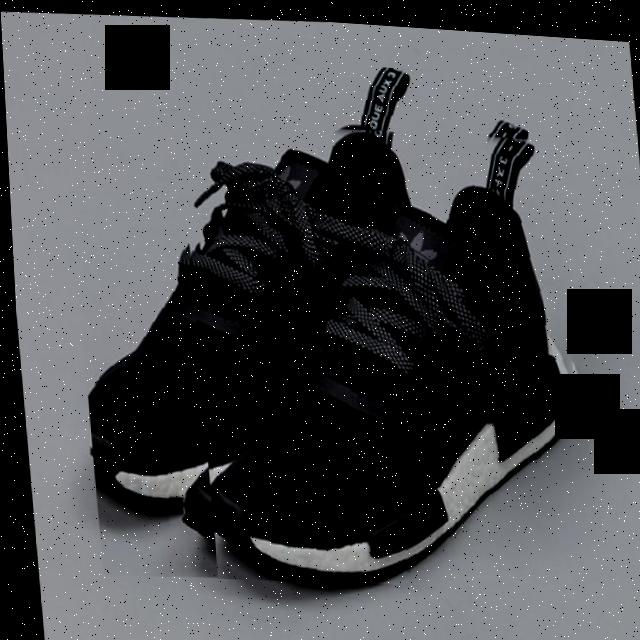shoe: (57, 38, 594, 600), (177, 104, 593, 596)
